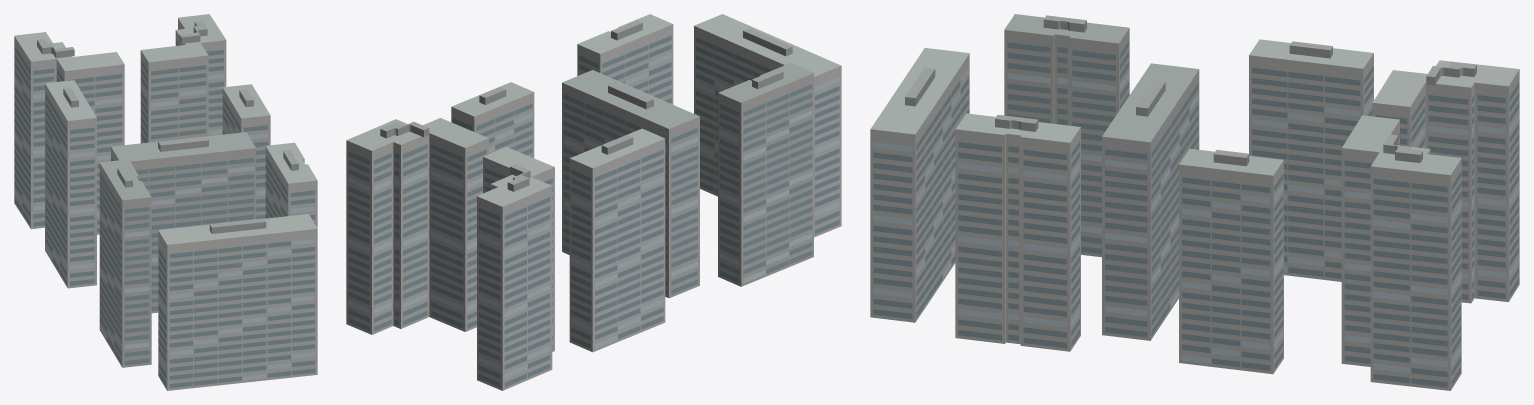
Rendered from apt-a15003701.glb.
The picture shows the model from 3 angles, left to right: view 1: azimuth 30°, elevation 25°; view 2: azimuth 150°, elevation 25°; view 3: azimuth 270°, elevation 25°; orthographic projection. The views are drawn at different scales.
Visible parts, largest first — view 1: apt-a15003701; view 2: apt-a15003701; view 3: apt-a15003701.
Boxes of the visible parts, bbox=[...] form: apt-a15003701: bbox=[14, 14, 317, 390]; apt-a15003701: bbox=[346, 14, 841, 390]; apt-a15003701: bbox=[870, 14, 1519, 390].
Size of the model in its own units: 100 by 65 by 171.
